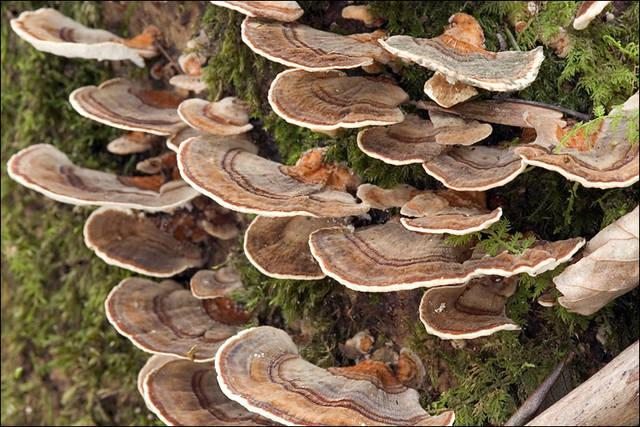Non-edible Mushroom: (6, 1, 636, 424), (213, 324, 455, 425)
